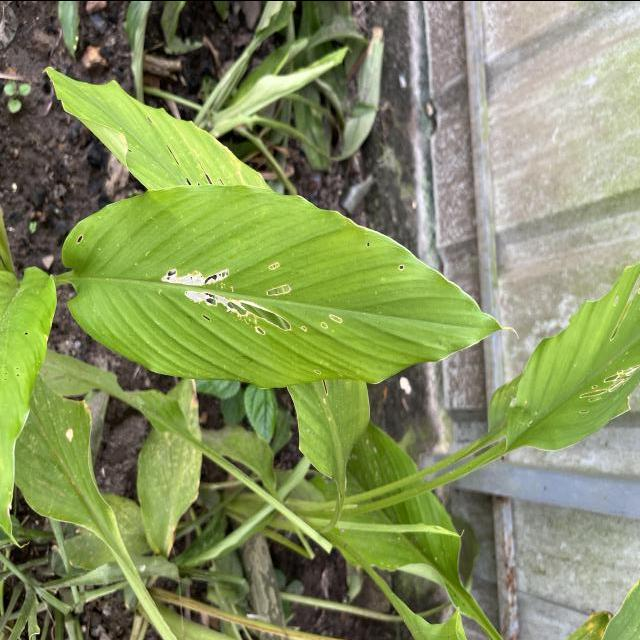Curcuma longa: (59, 180, 524, 392)
